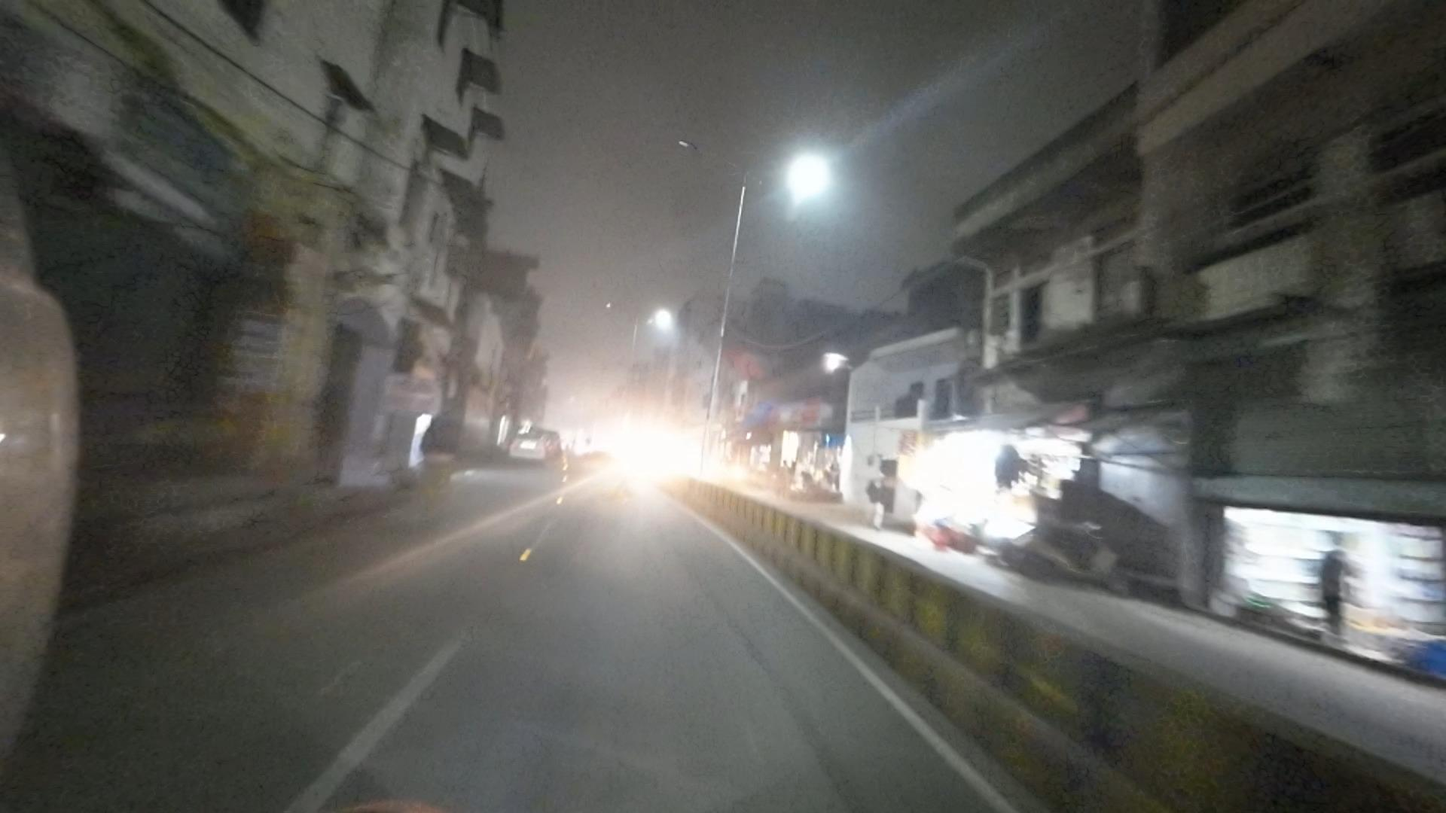streetlight: (677, 138, 739, 169)
